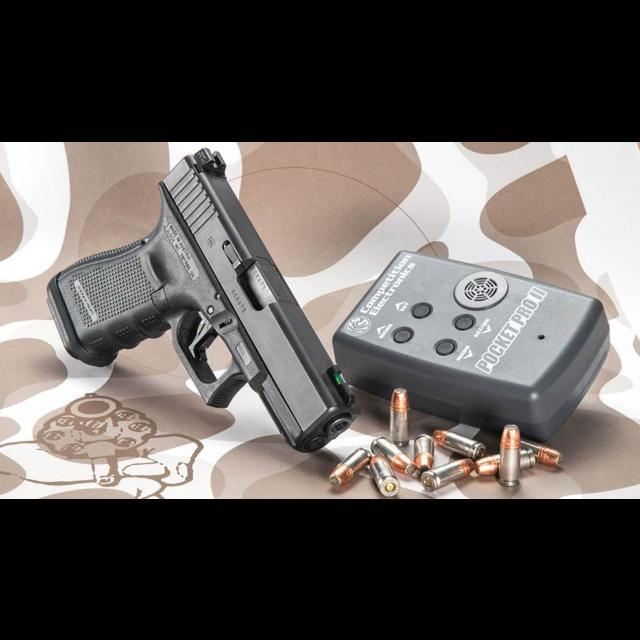handgun: (43, 143, 365, 454)
